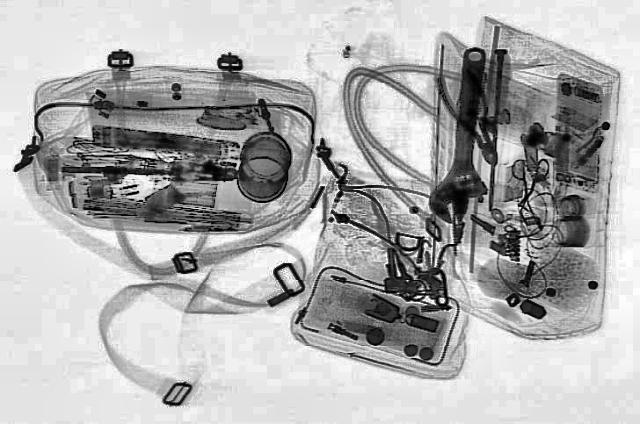Pliers: (431, 70, 513, 168)
Wrench: (426, 44, 504, 223)
